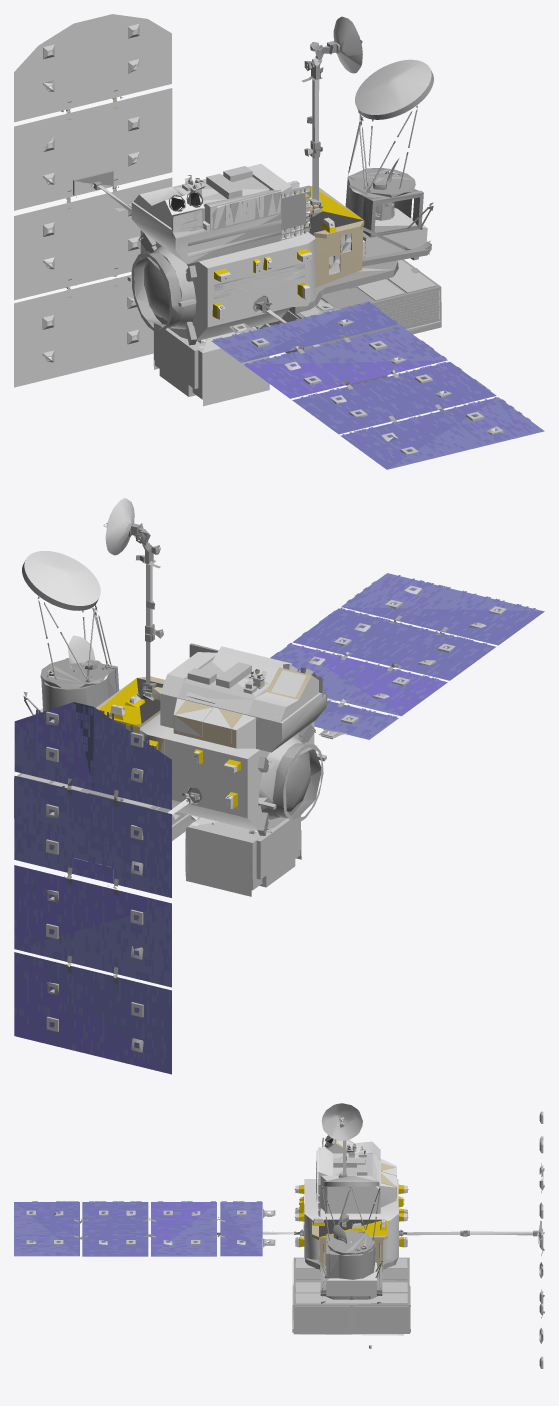
Rendered from gpm.glb.
3 views of the same model, one above another, from view 1: azimuth 30°, elevation 25°; view 2: azimuth 150°, elevation 25°; view 3: azimuth 270°, elevation 25° (orthographic). The views are drawn at different scales.
Parts seen in each view (by area): view 1: solar-panel, body, foil; view 2: solar-panel, body, foil; view 3: body, solar-panel, foil.
Part boxes in pixels (<box>): solar-panel: <box>14,14,544,469</box>; body: <box>42,16,503,454</box>; foil: <box>212,186,363,318</box>; solar-panel: <box>14,573,544,1074</box>; body: <box>14,498,506,1052</box>; foil: <box>99,678,240,808</box>; body: <box>26,1103,544,1368</box>; solar-panel: <box>14,1181,542,1277</box>; foil: <box>299,1184,406,1247</box>.
Bounding box in the file's own units: 185 × 268 × 430.
